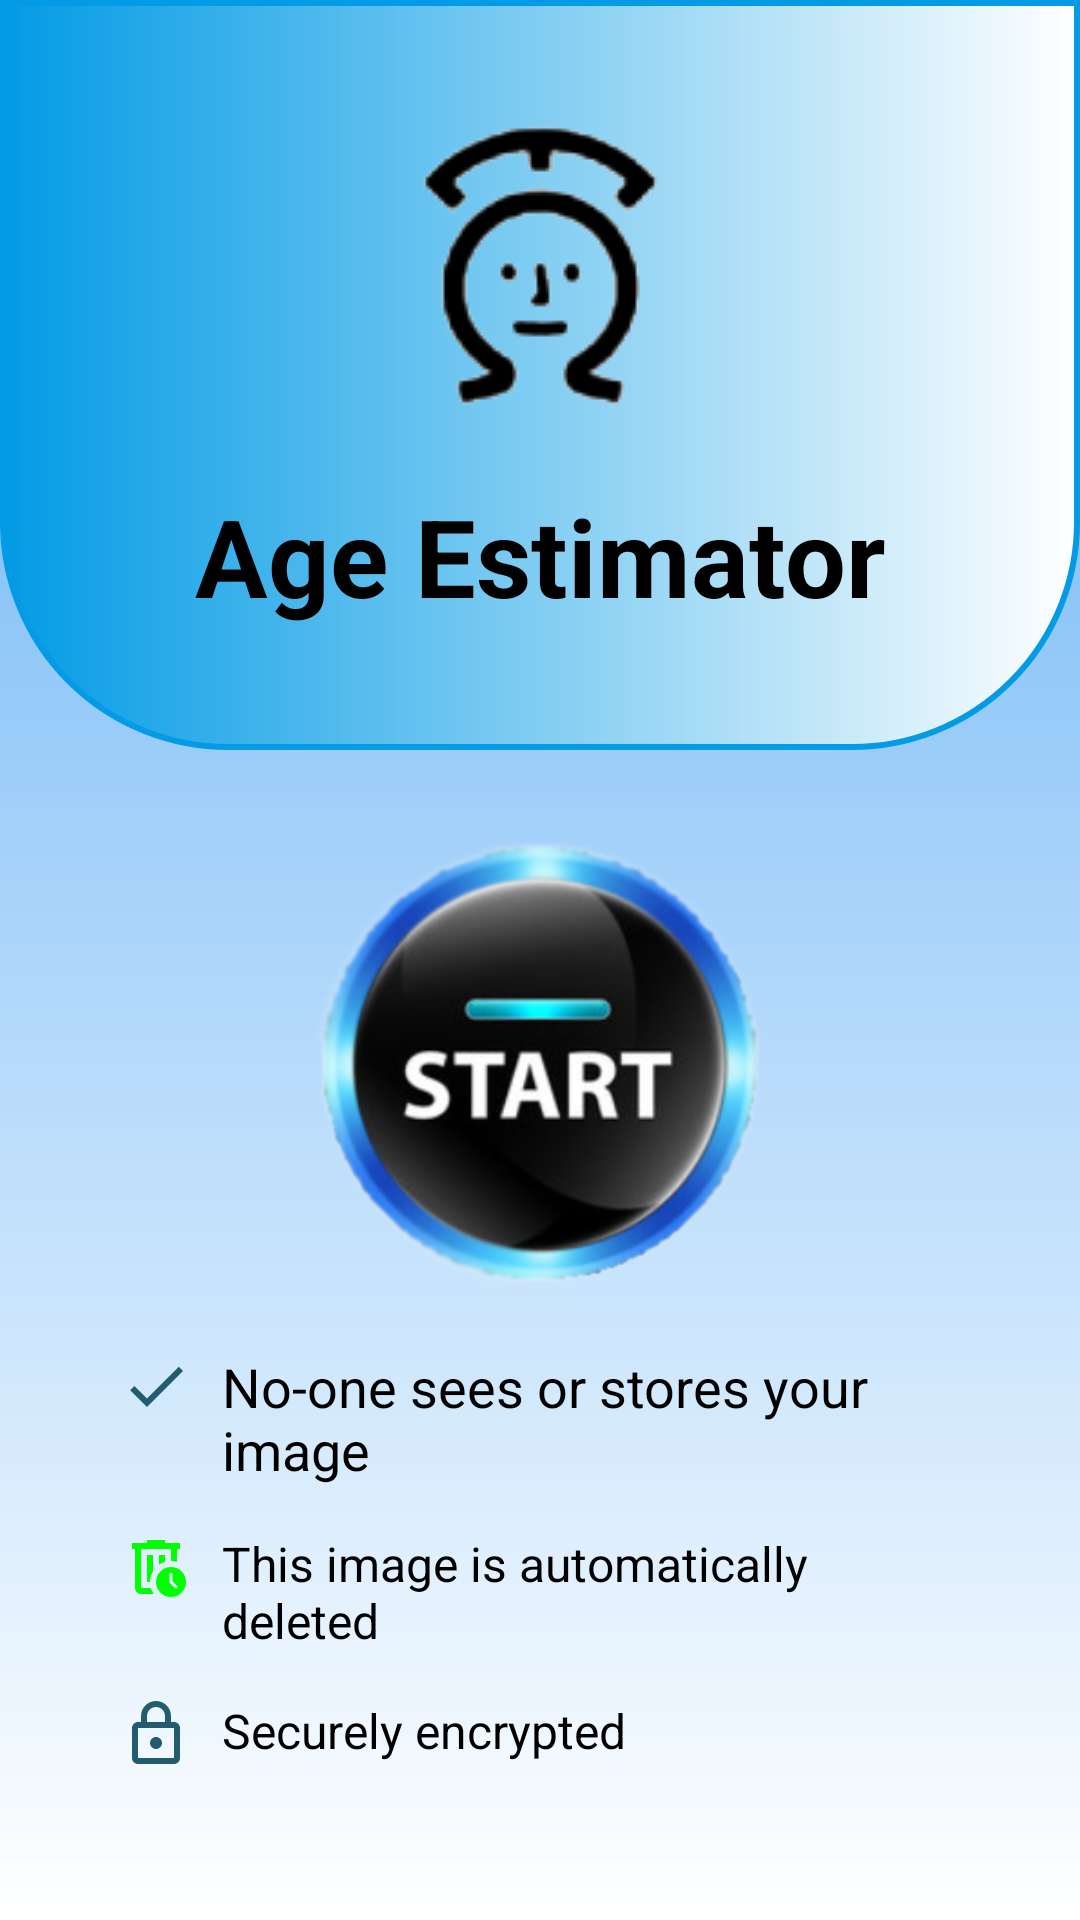

Icon bounding boxes for this 1080 x 1920 phone screenshot, format (x1=x1, y1=y1, x2=x2, y2=y2):
auto delete: (x1=132, y1=1540, x2=186, y2=1597)
done: (x1=130, y1=1367, x2=183, y2=1407)
lock: (x1=132, y1=1701, x2=180, y2=1764)
